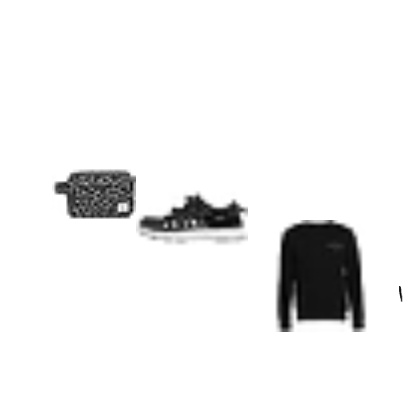1: (389, 282, 411, 304)
Bag: (52, 152, 136, 236)
Pullover: (265, 220, 377, 332)
Sandal: (136, 160, 248, 272)
